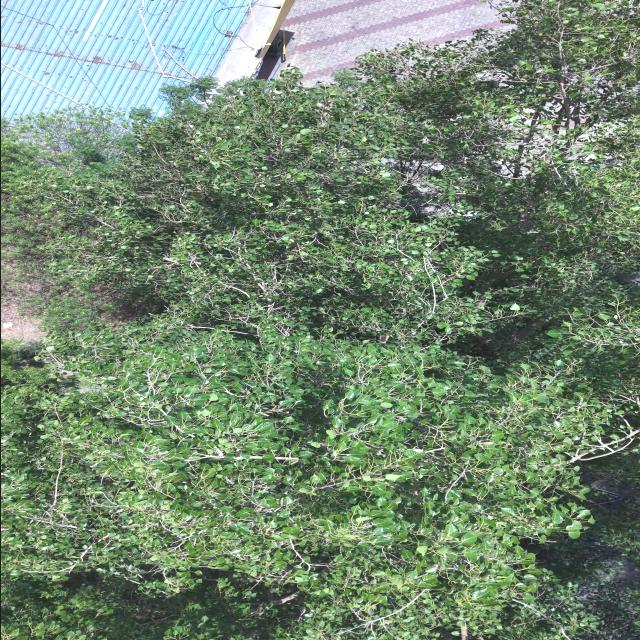DRY_AREA: (283, 0, 506, 84), (1, 303, 43, 341)
ROOFTOP_BUILDING: (1, 0, 281, 118)
VEGETATION_TREE: (1, 0, 639, 639)
